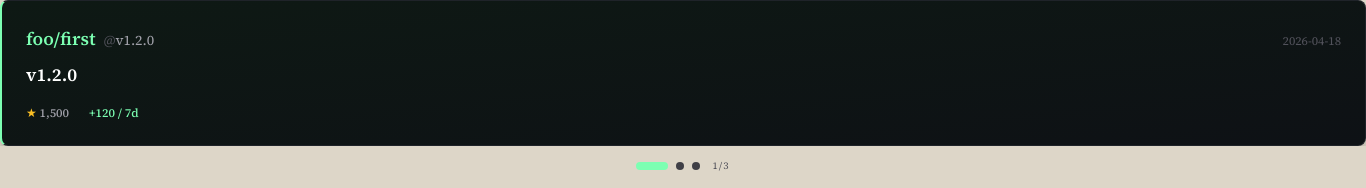
it: GitHubRotator › jumps to the clicked dot and marks it selected
The image size is (1366, 188).
Step 1. Click the tab named "Show item 3 of 3" → coordinates (696, 166), box [692,162,700,170]
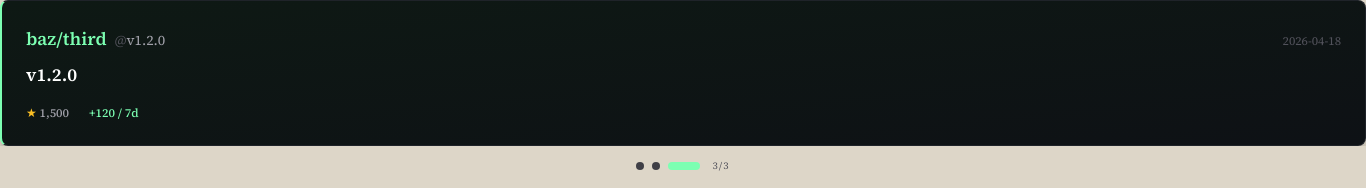
Expected: the link "baz/third" is shown, [26,25,107,53]
